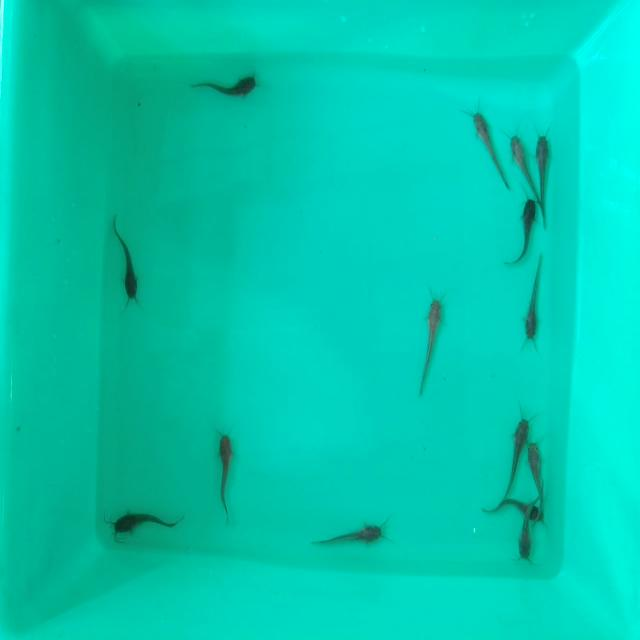lele: (418, 292, 444, 395), (311, 522, 386, 552), (521, 250, 545, 343), (471, 111, 503, 179), (110, 509, 185, 537), (187, 72, 261, 100), (504, 410, 529, 489), (113, 215, 135, 304), (506, 124, 534, 187), (508, 198, 537, 258), (216, 432, 236, 513), (536, 132, 554, 212), (474, 498, 538, 520), (527, 441, 546, 498), (516, 513, 534, 563)
